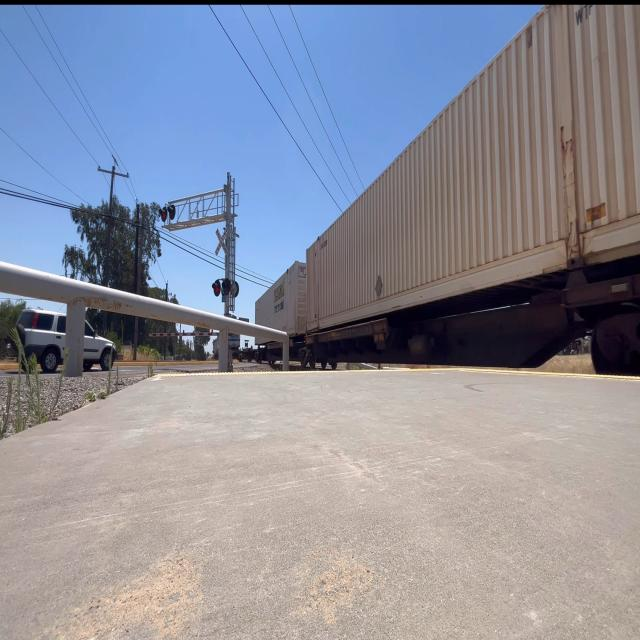container: (305, 7, 640, 328), (253, 261, 307, 339)
flatcar: (301, 243, 640, 370)
